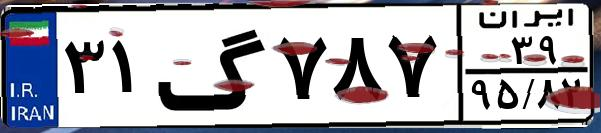1: (110, 28, 156, 98)
2: (560, 70, 590, 125)
3: (57, 26, 110, 100), (508, 27, 537, 80)
5: (495, 70, 520, 125)
7: (270, 28, 330, 110), (385, 28, 445, 110)
8: (330, 28, 385, 110), (535, 70, 560, 125)
9: (537, 27, 568, 80), (470, 70, 495, 125)
گ: (156, 12, 270, 120)
